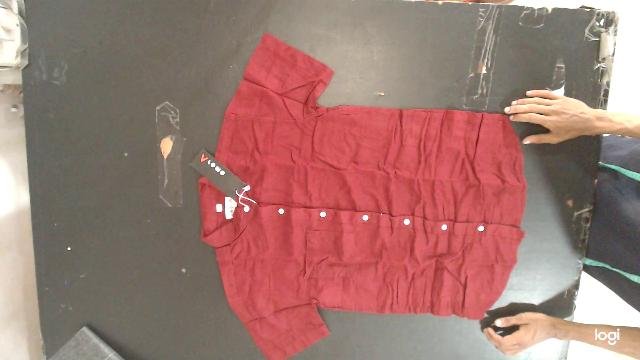new-garment: (195, 33, 526, 360)
